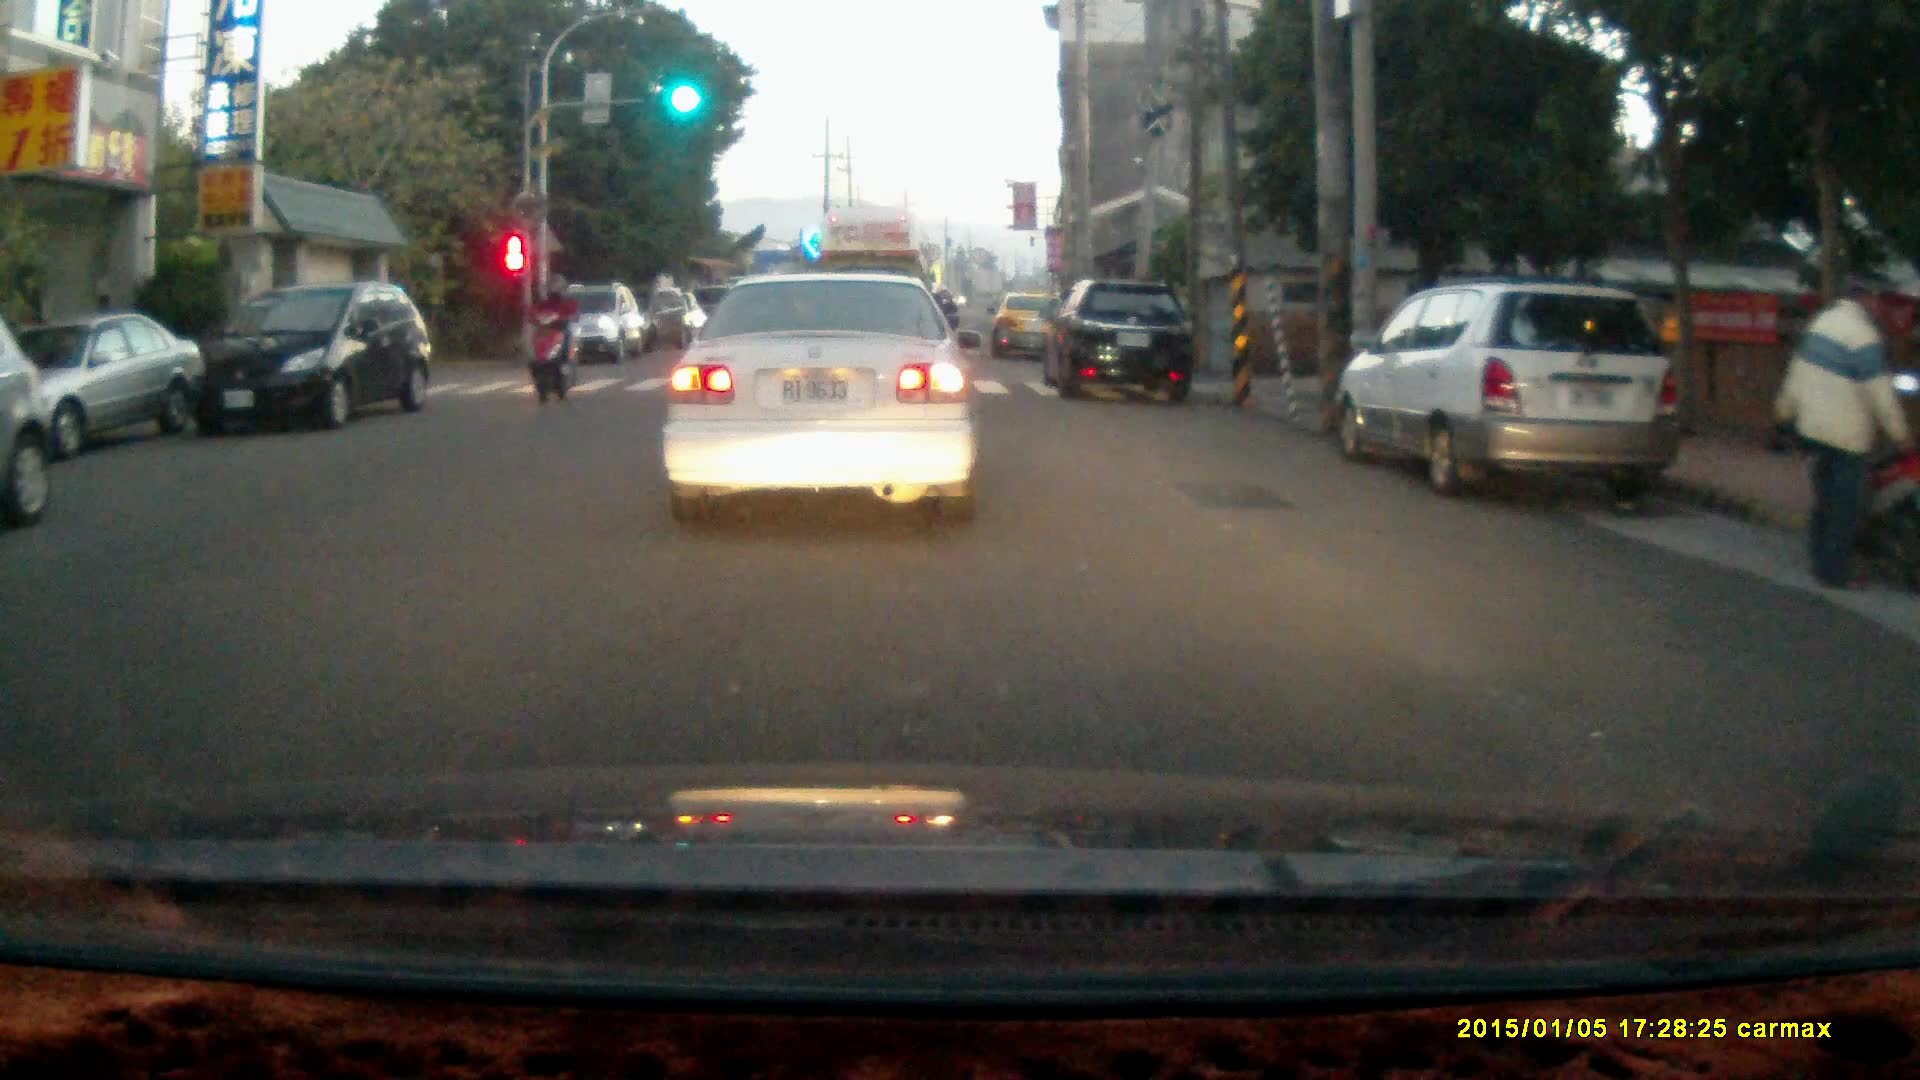pedestrian: (1776, 270, 1905, 593)
rider: (525, 269, 575, 407)
vehicle: (664, 271, 985, 524), (1340, 281, 1677, 497), (184, 284, 430, 441), (0, 312, 202, 455), (1039, 275, 1196, 399), (818, 205, 934, 365), (1, 318, 59, 531), (534, 284, 646, 364), (988, 293, 1075, 368)
